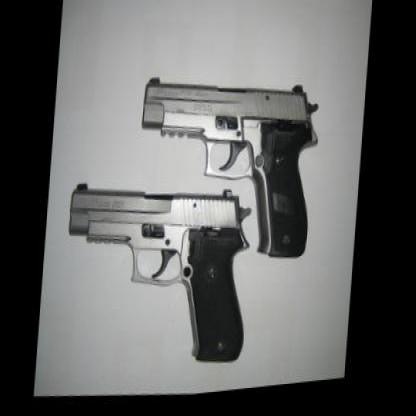pistol: (62, 167, 257, 381), (134, 62, 324, 278)
